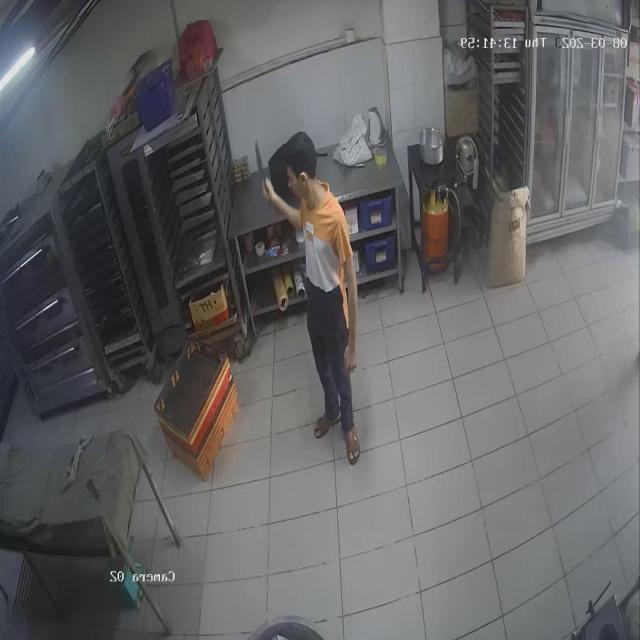Knife: (248, 132, 274, 198)
